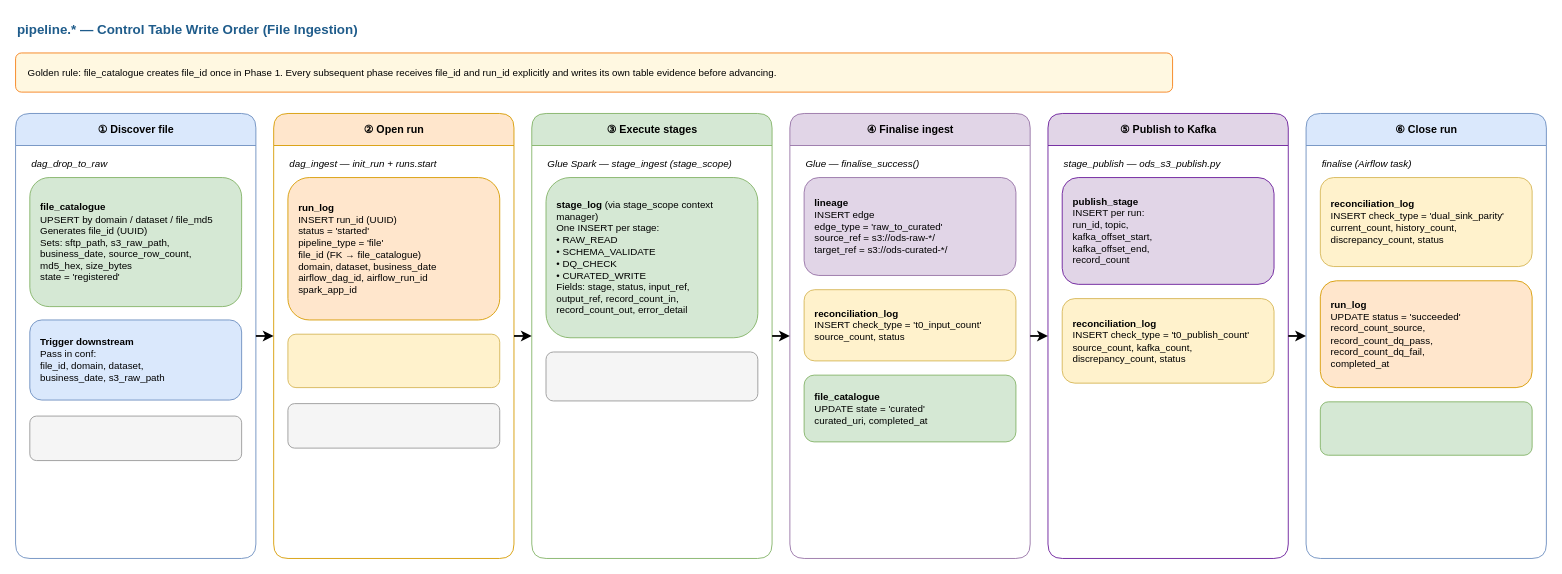
The diagram is 1562 pixels wide and 574 high, and some of its shapes have lost their labels. Each missing label, with the centre of its shape:
file_catalogue UPDATE state = 'completed': (x=1425, y=428)
file_catalogue UPDATE state = 'ingesting': (x=393, y=360)
Idempotency: if run_id already exists with status=succeeded, skip the job.: (x=393, y=425)
No run_log row yet. run_id is generated by dag_ingest.: (x=135, y=438)
stage_scope() auto-writes status=succeeded or failed on context manager exit.: (x=651, y=376)
